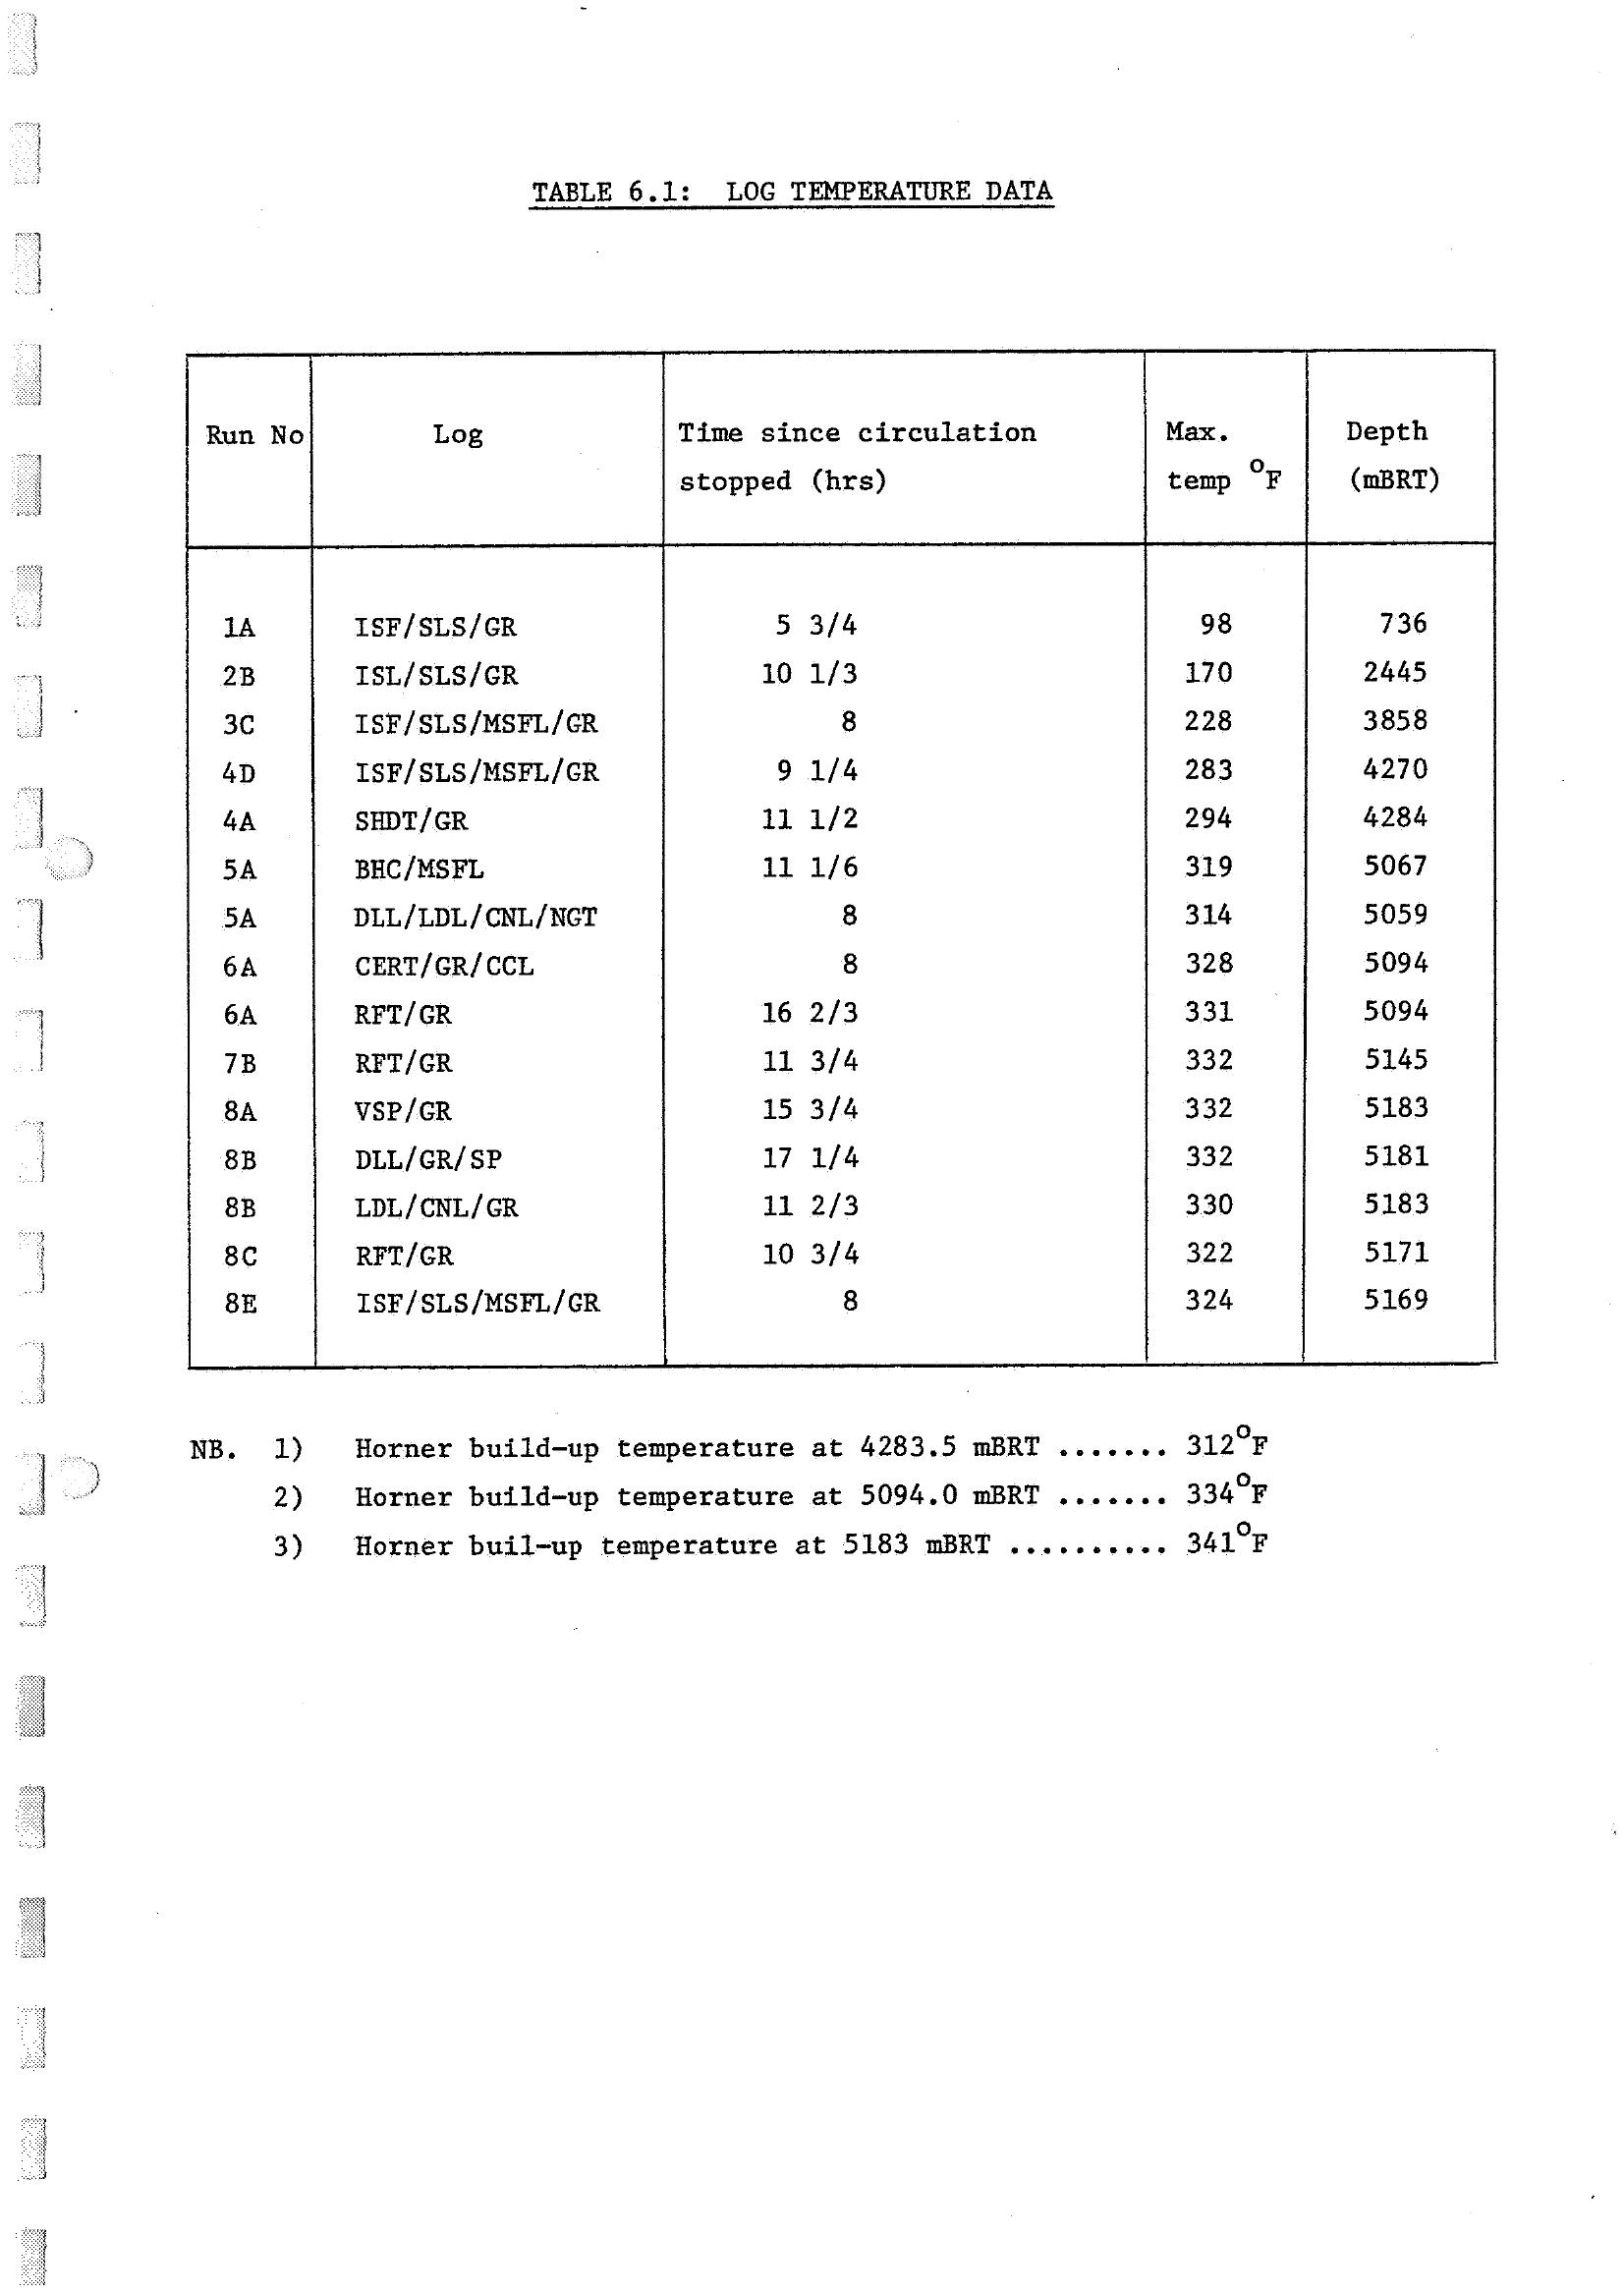table: (121, 155, 1527, 1406)
text: (151, 1407, 1322, 1601)
